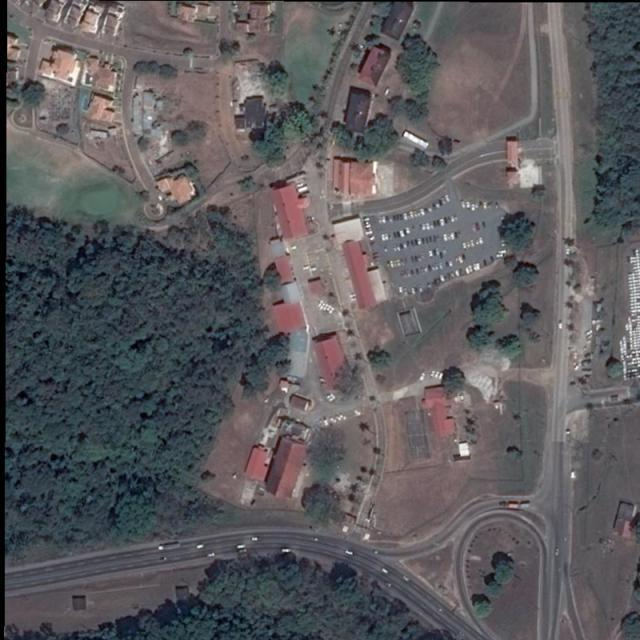vehicle: (158, 543, 181, 552), (410, 286, 416, 295), (353, 408, 360, 415), (339, 413, 346, 420), (586, 330, 594, 336), (197, 543, 205, 549), (420, 373, 426, 381), (566, 249, 571, 258), (440, 275, 446, 282), (471, 225, 477, 232), (382, 568, 389, 574), (334, 414, 341, 420), (420, 208, 425, 216), (400, 230, 405, 238), (441, 218, 446, 226), (461, 201, 466, 209), (430, 370, 435, 378), (458, 255, 463, 263), (483, 200, 487, 209), (330, 396, 336, 402), (443, 234, 448, 241), (476, 223, 481, 230), (346, 550, 353, 555), (208, 552, 215, 557), (438, 372, 443, 379), (330, 417, 337, 422), (446, 194, 450, 202), (386, 234, 390, 242), (390, 261, 394, 269), (466, 201, 470, 209), (471, 203, 475, 211), (238, 545, 246, 549), (435, 370, 439, 378), (558, 321, 562, 329), (414, 210, 418, 218), (418, 286, 423, 292), (436, 250, 441, 256), (323, 419, 328, 425), (456, 270, 460, 277), (382, 217, 386, 224), (442, 198, 446, 205), (410, 211, 414, 218), (403, 213, 407, 220), (406, 228, 410, 235), (418, 238, 422, 245), (430, 251, 434, 258), (426, 223, 430, 230), (497, 254, 504, 258), (466, 267, 470, 274), (430, 222, 434, 229), (482, 222, 486, 229), (417, 210, 421, 217), (282, 550, 291, 553), (422, 224, 426, 230), (467, 242, 471, 248), (463, 243, 467, 249), (499, 250, 507, 253), (470, 266, 474, 272), (382, 234, 385, 242), (390, 216, 394, 222), (397, 214, 400, 222), (394, 232, 398, 238), (434, 222, 438, 228), (437, 220, 441, 226), (483, 260, 487, 266), (490, 256, 494, 262), (449, 261, 453, 267), (399, 286, 402, 294), (404, 289, 408, 295), (251, 538, 259, 541), (326, 394, 332, 398), (471, 240, 474, 247), (411, 239, 414, 246), (394, 260, 397, 267), (398, 259, 401, 266), (451, 233, 454, 240), (429, 266, 433, 271), (480, 238, 483, 244), (476, 239, 479, 245), (477, 263, 480, 269), (474, 264, 477, 270), (407, 241, 410, 247), (404, 242, 406, 248)
